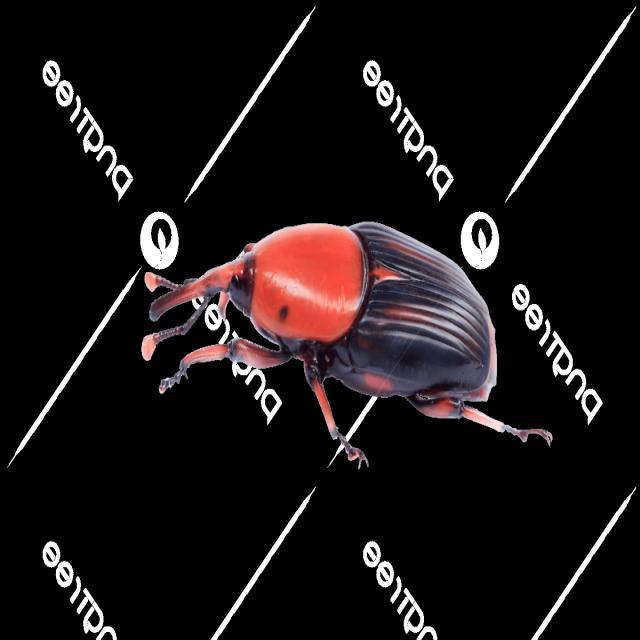Red-palm-weevil: (112, 208, 564, 467)
